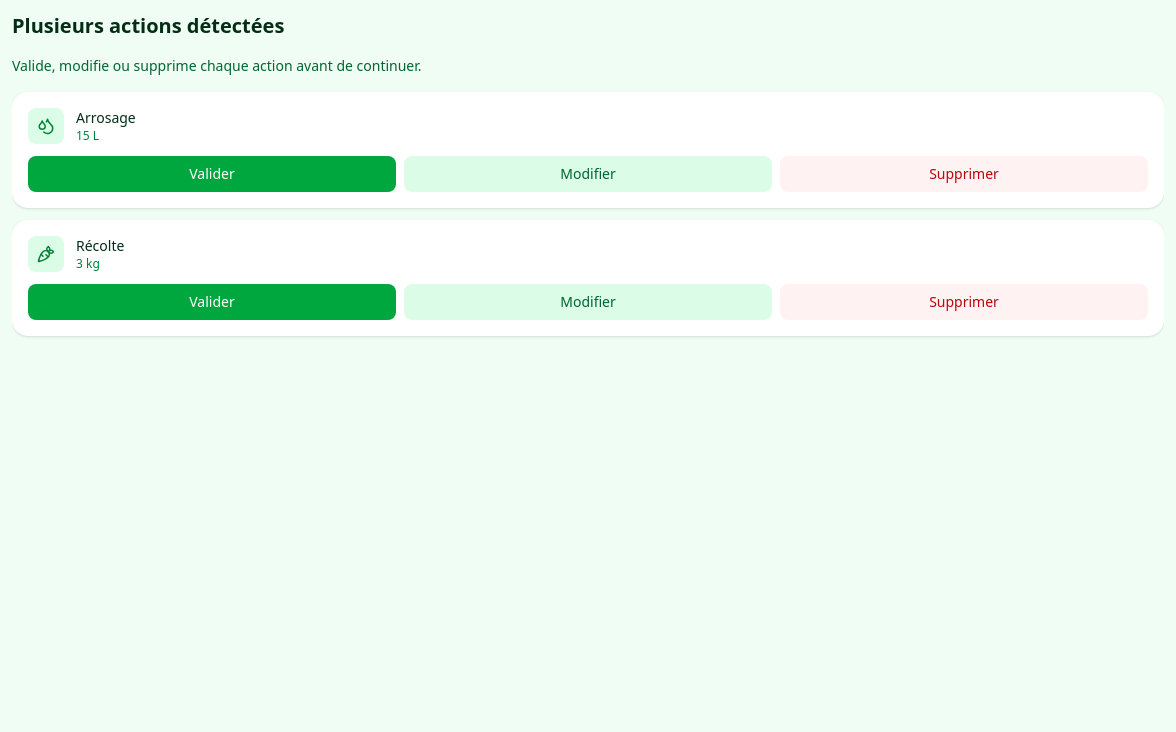
Test case: VoiceReviewPage › Modifier puis Retour laisse la carte intacte dans la liste
This screenshot has width=1176, height=732.
Click the 1st button "Modifier": (588, 174) x1=404 y1=156 x2=772 y2=192
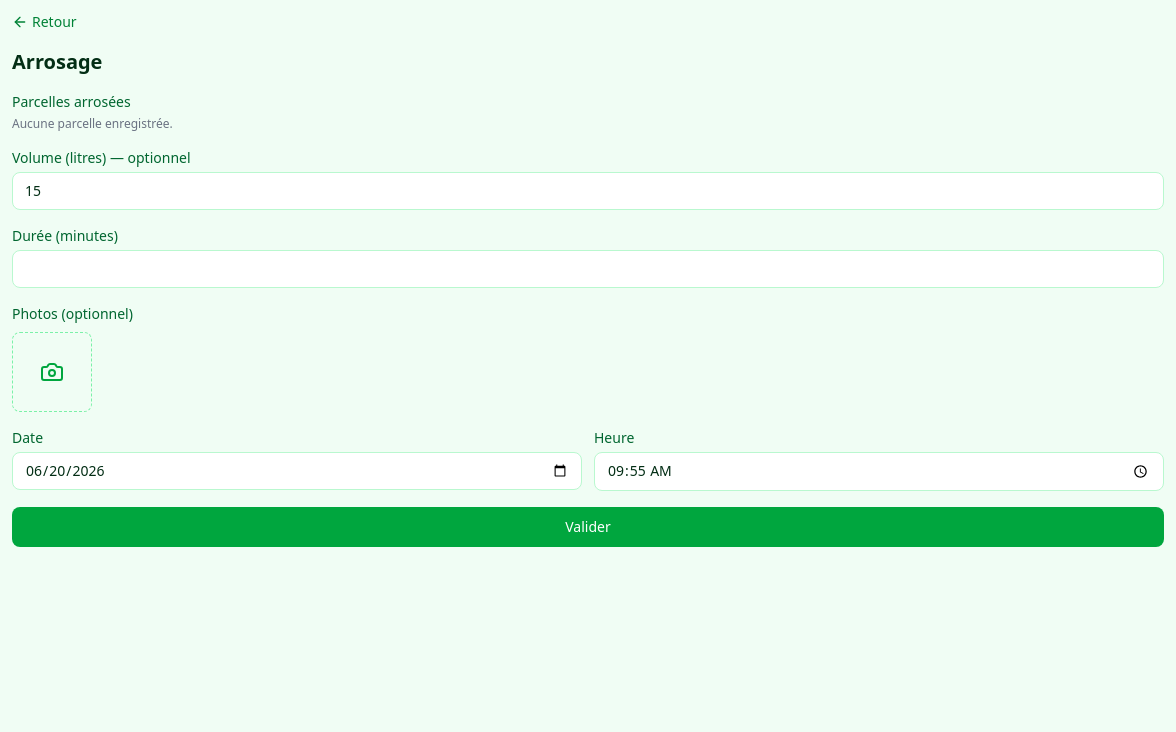
Expected: the number field labelled "Volume (litres)" holds "15", x1=12 y1=172 x2=1164 y2=210
Click the button "Retour": (44, 22) x1=12 y1=12 x2=77 y2=32
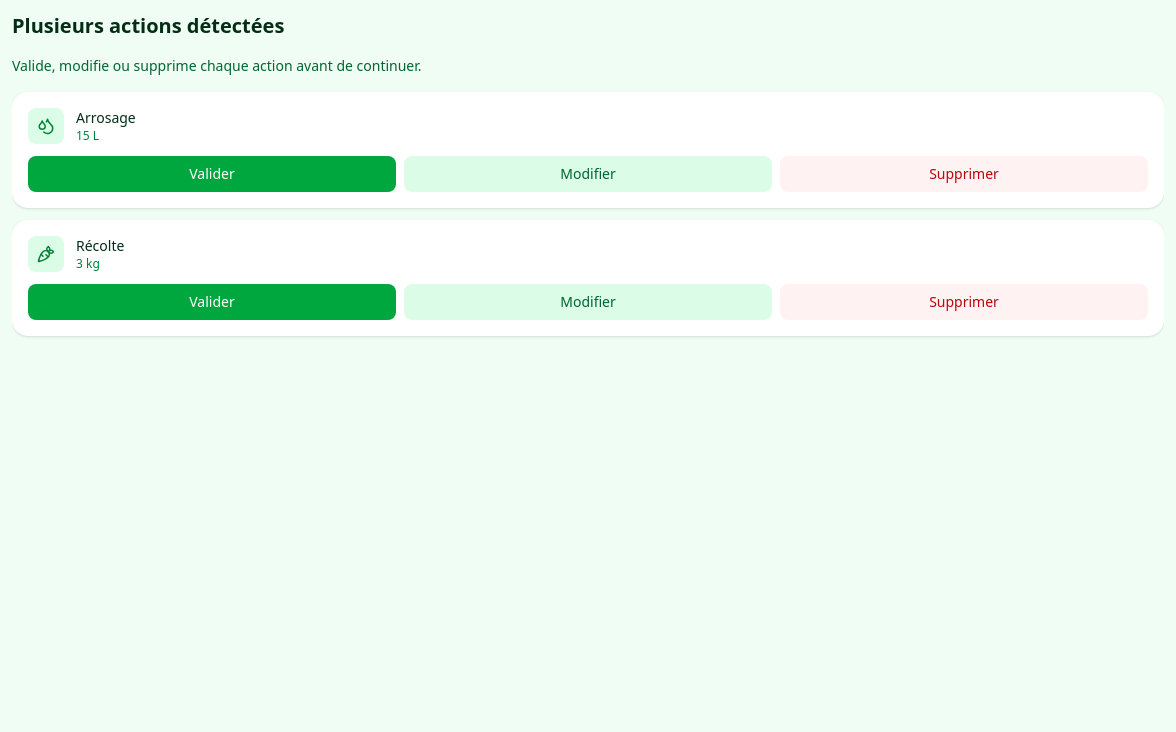
Expected: the text "15 L" is shown, x1=76 y1=127 x2=99 y2=144
Expected: the text "3 kg" is shown, x1=76 y1=255 x2=100 y2=272
